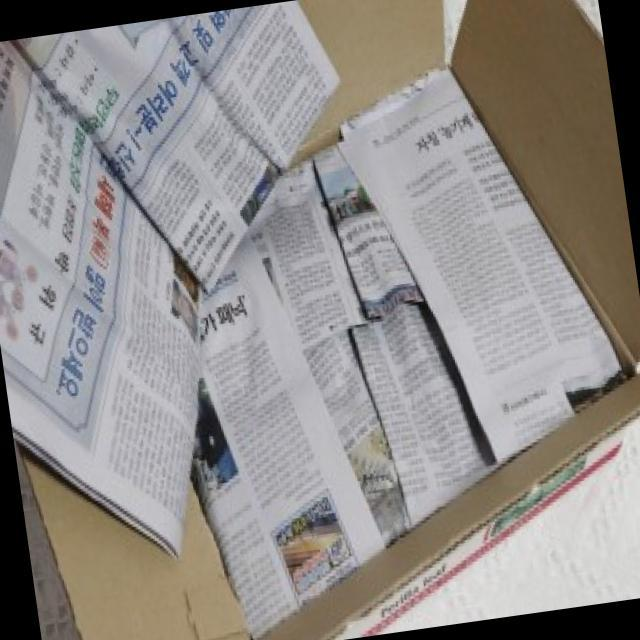reuseable_paper: (128, 62, 640, 570)
